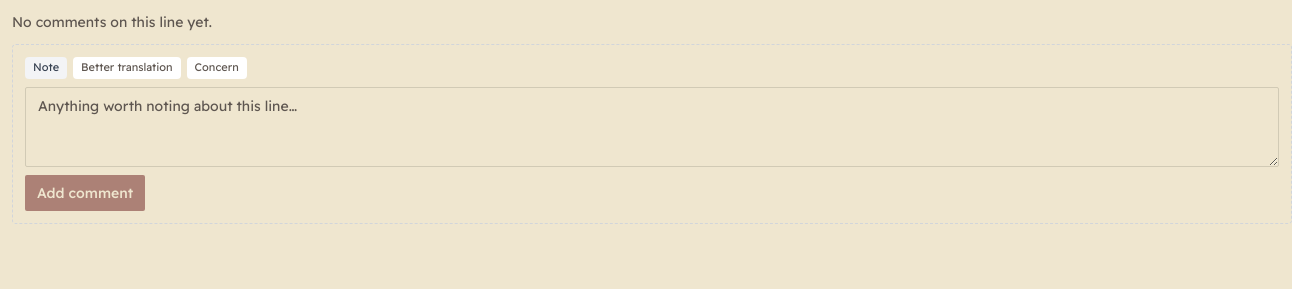
Test: writing one › only asks for a suggested translation when that is the kind
Click the button "Better translation" at (127, 68), box x1=73 y1=57 x2=181 y2=79
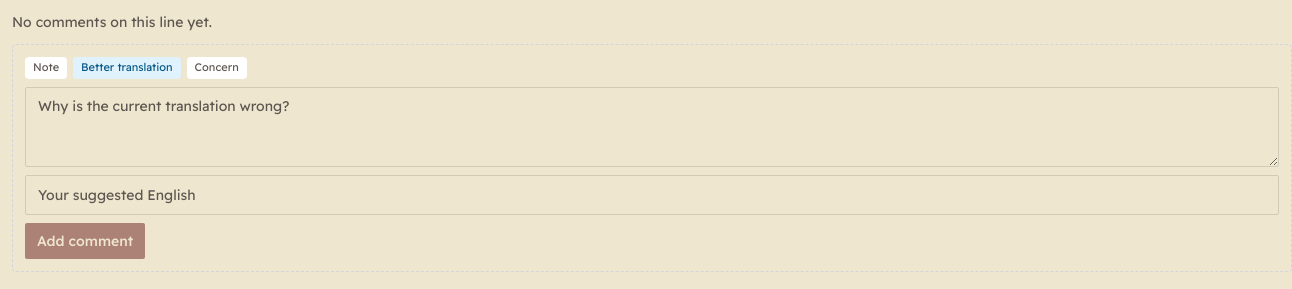
Check: the field named "Suggested translation" is shown, box x1=25 y1=175 x2=1279 y2=215
